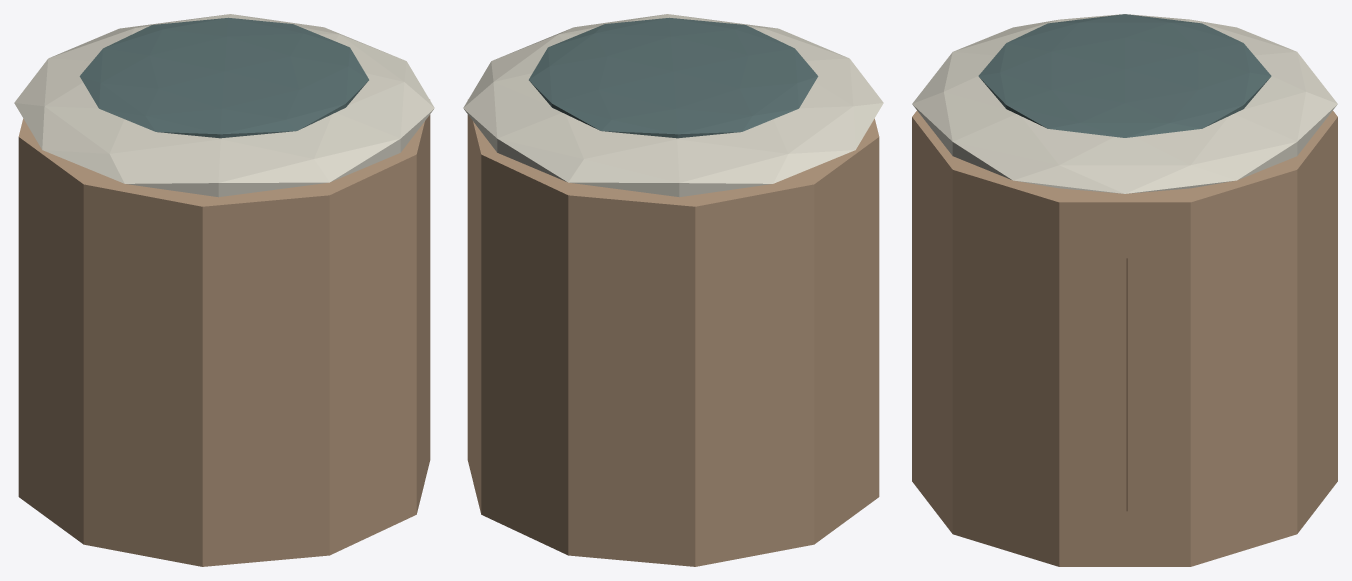
Rendered from hollow_stump.glb.
3 renders of one model, left to right at view 1: azimuth 30°, elevation 25°; view 2: azimuth 150°, elevation 25°; view 3: azimuth 270°, elevation 25°, orthographic.
Parts seen in each view (by area): view 1: Trunk, Top, Centre; view 2: Trunk, Top, Centre; view 3: Trunk, Top, Centre, Bark_0.
Part boxes in pixels (x1,y1,x2,y2): Trunk: [18, 99, 430, 566]; Top: [14, 14, 434, 197]; Centre: [79, 17, 368, 138]; Trunk: [467, 99, 879, 566]; Top: [463, 14, 883, 197]; Centre: [529, 17, 818, 138]; Trunk: [912, 111, 1337, 566]; Top: [912, 14, 1337, 193]; Centre: [978, 14, 1271, 137]; Bark_0: [1126, 258, 1128, 511].
Size of the model in its own units: 0.9 by 0.9605 by 0.9.
